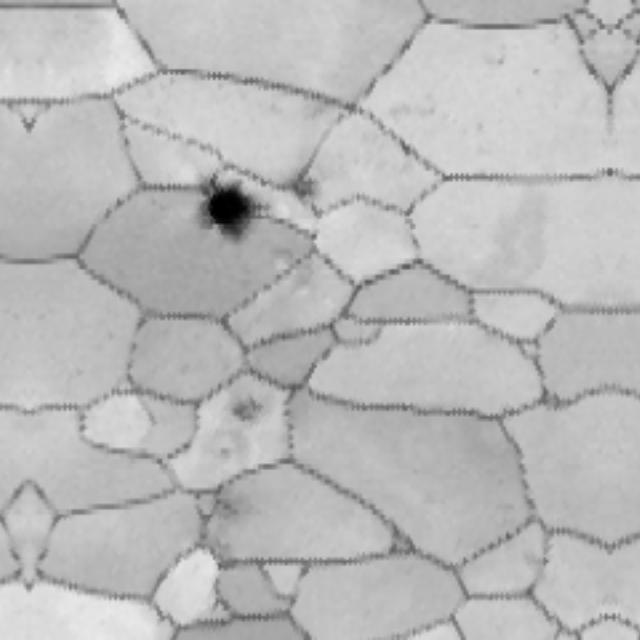good_void: (195, 167, 271, 249), (286, 171, 329, 203), (231, 396, 268, 430), (217, 492, 248, 523), (485, 50, 510, 67), (215, 443, 236, 460)
